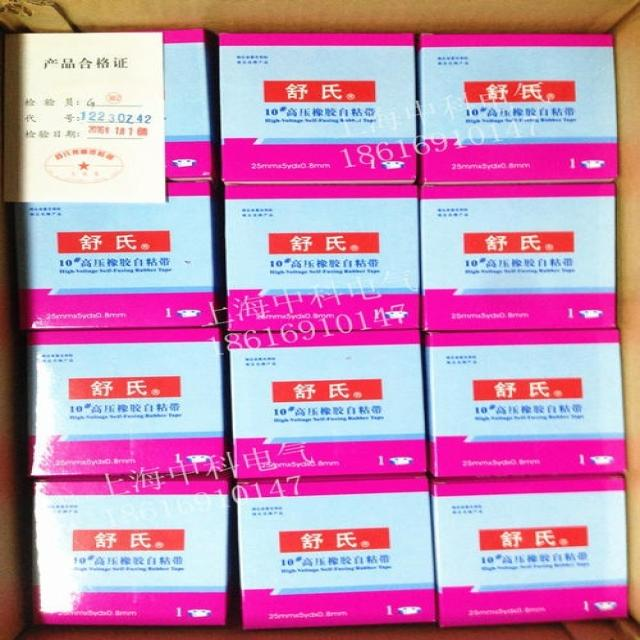box: (234, 475, 436, 631), (11, 182, 219, 330), (21, 326, 224, 477), (423, 329, 627, 479), (428, 474, 625, 628), (415, 33, 615, 183), (219, 34, 417, 183), (227, 330, 426, 478), (221, 183, 421, 330), (419, 183, 616, 330), (32, 478, 229, 625), (164, 28, 219, 182)
